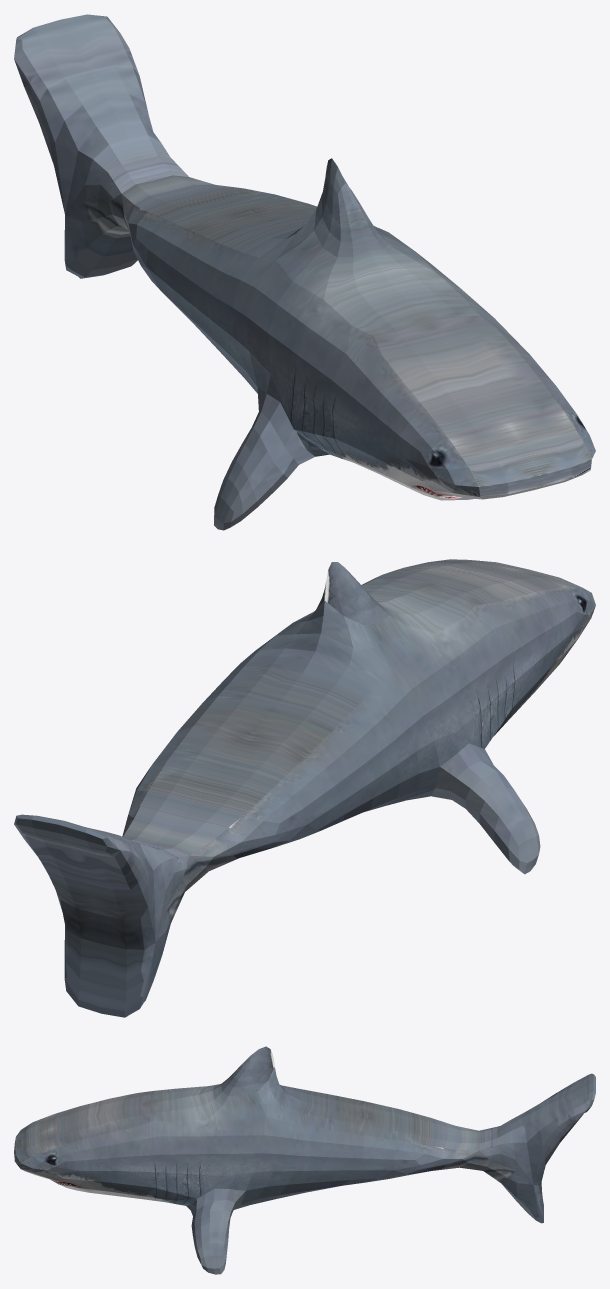
The model's file is shark.gltf.
3 renders of one model, top to bottom at view 1: azimuth 30°, elevation 25°; view 2: azimuth 150°, elevation 25°; view 3: azimuth 270°, elevation 25°, orthographic. The views are drawn at different scales.
Parts seen in each view (by area): view 1: Shark; view 2: Shark; view 3: Shark.
Part boxes in pixels (box(x1,y1,x2,y2)): Shark: box(14, 14, 595, 530); Shark: box(14, 559, 595, 1017); Shark: box(14, 1046, 595, 1274).
Bounding box in the file's own units: 1.82 × 1.66 × 4.82.
Materials: 1 (1 with a texture image).
